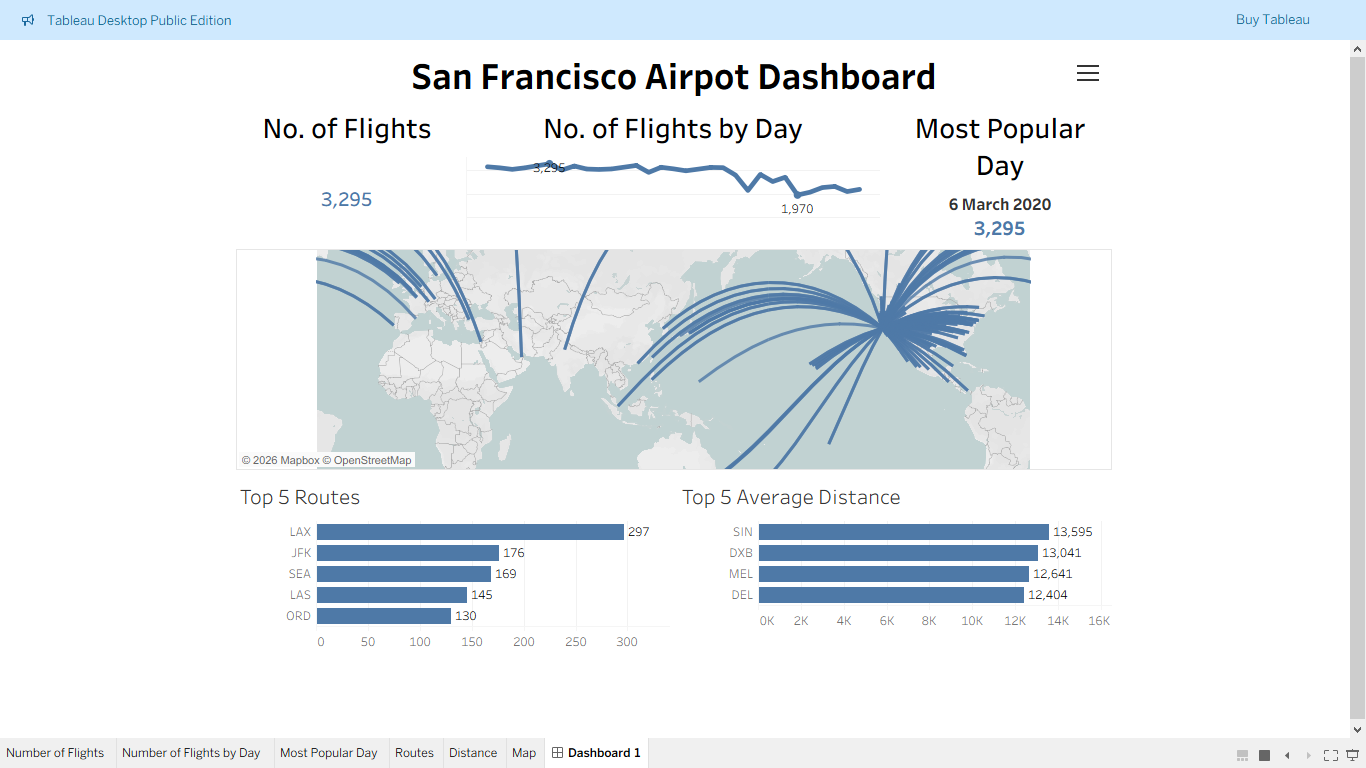

What the dashboard file says about the page in this screenshot:
{"tool":"tableau","page":{"name":"Dashboard 1","canvas":[1000,1000],"units":"permille","ordinal":0},"visuals":[{"type":"text","box":[8.9,11.4,982.2,76.2]},{"type":"dashboard-object","box":[946.7,30,26.7,34.3]},{"type":"filter","title":"Routes","param":"[federated.0b37fav0hsrsha1b8tmu00lzpq7g].[none:Route:nk]","box":[840,80,146.7,108.6]},{"type":"worksheet","title":"Number of Flights","mark":"Automatic","box":[8.9,87.6,255.5,205.2]},{"type":"worksheet","title":"Number of Flights by Day","mark":"Automatic","rows":["Calculation_556757520096768000"],"cols":["Date"],"box":[264.4,87.6,469.4,205.2]},{"type":"worksheet","title":"Most Popular Day","mark":"Automatic","cols":["Date"],"box":[733.9,87.6,257.2,205.2]},{"type":"filter","title":"Most Popular Day","param":"[federated.0b37fav0hsrsha1b8tmu00lzpq7g].[none:Date:ok]","box":[840,188.6,146.7,82.9]},{"type":"filter","title":"Map","param":"[federated.0b37fav0hsrsha1b8tmu00lzpq7g].[sum:Calculation_710442857549238274:qk]","box":[840,271.4,146.7,82.9]},{"type":"worksheet","title":"Map","mark":"Multipolygon","box":[8.9,292.9,982.2,327.1]},{"type":"worksheet","title":"Routes","mark":"Automatic","rows":["Calculation_556757520113360898"],"cols":["Calculation_556757520096768000"],"box":[8.9,620,491.1,368.6]},{"type":"worksheet","title":"Distance","mark":"Automatic","rows":["Calculation_556757520113360898"],"cols":["Calculation_710442857549238274"],"box":[499.9,620,491.2,368.6]}]}

Visuals, with their boxes on the dashboard's canvas, which has no fixed pixel size, in thousandths of its width and height (x1, y1, x2, y2). These are canvas units, not pixel positions in the 1366x768 screenshot, which may show the page scaled, cropped or inside an application window:
text: {"x1": 9, "y1": 11, "x2": 991, "y2": 88}
dashboard-object: {"x1": 947, "y1": 30, "x2": 973, "y2": 64}
"Routes" filter: {"x1": 840, "y1": 80, "x2": 987, "y2": 189}
"Number of Flights" worksheet: {"x1": 9, "y1": 88, "x2": 264, "y2": 293}
"Number of Flights by Day" worksheet: {"x1": 264, "y1": 88, "x2": 734, "y2": 293}
"Most Popular Day" worksheet: {"x1": 734, "y1": 88, "x2": 991, "y2": 293}
"Most Popular Day" filter: {"x1": 840, "y1": 189, "x2": 987, "y2": 272}
"Map" filter: {"x1": 840, "y1": 271, "x2": 987, "y2": 354}
"Map" worksheet (Multipolygon marks): {"x1": 9, "y1": 293, "x2": 991, "y2": 620}
"Routes" worksheet: {"x1": 9, "y1": 620, "x2": 500, "y2": 989}
"Distance" worksheet: {"x1": 500, "y1": 620, "x2": 991, "y2": 989}
